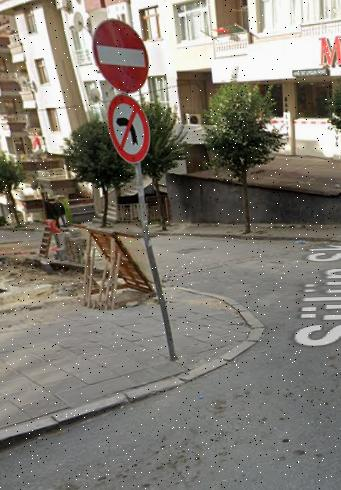leftturnsareforbidden: (109, 96, 150, 162)
